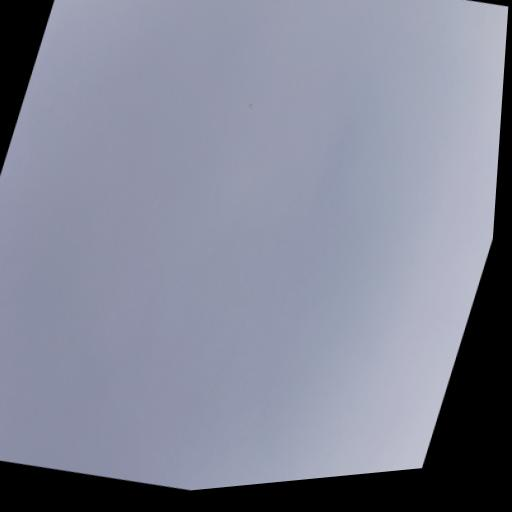drones: (247, 101, 255, 110)
